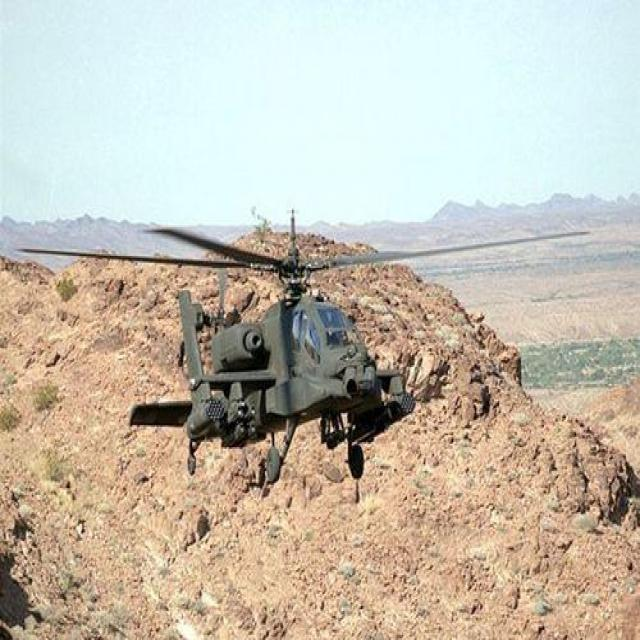MIL_HELO: (18, 220, 602, 489)
